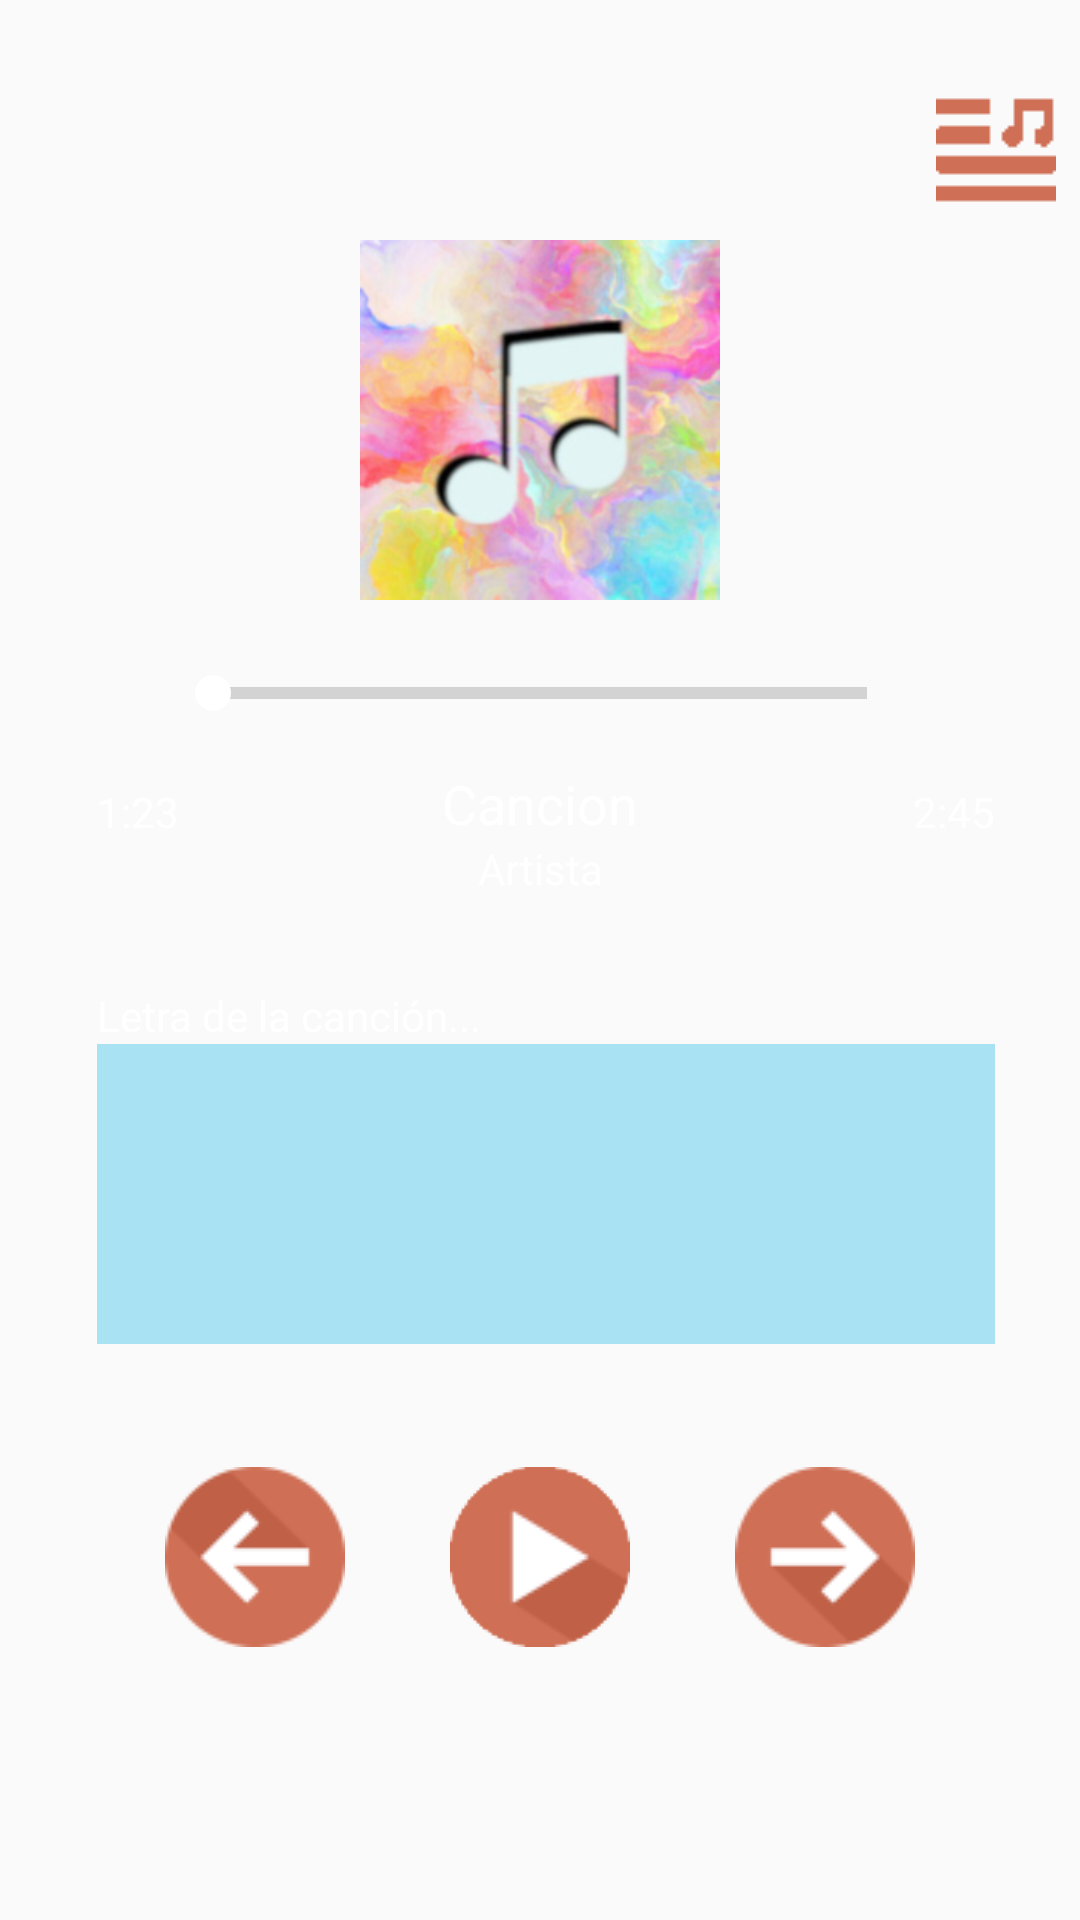

Icons on this 1080px×1920px Android screen, each with the point to tap as point (x, y):
listac: point (996, 150)
